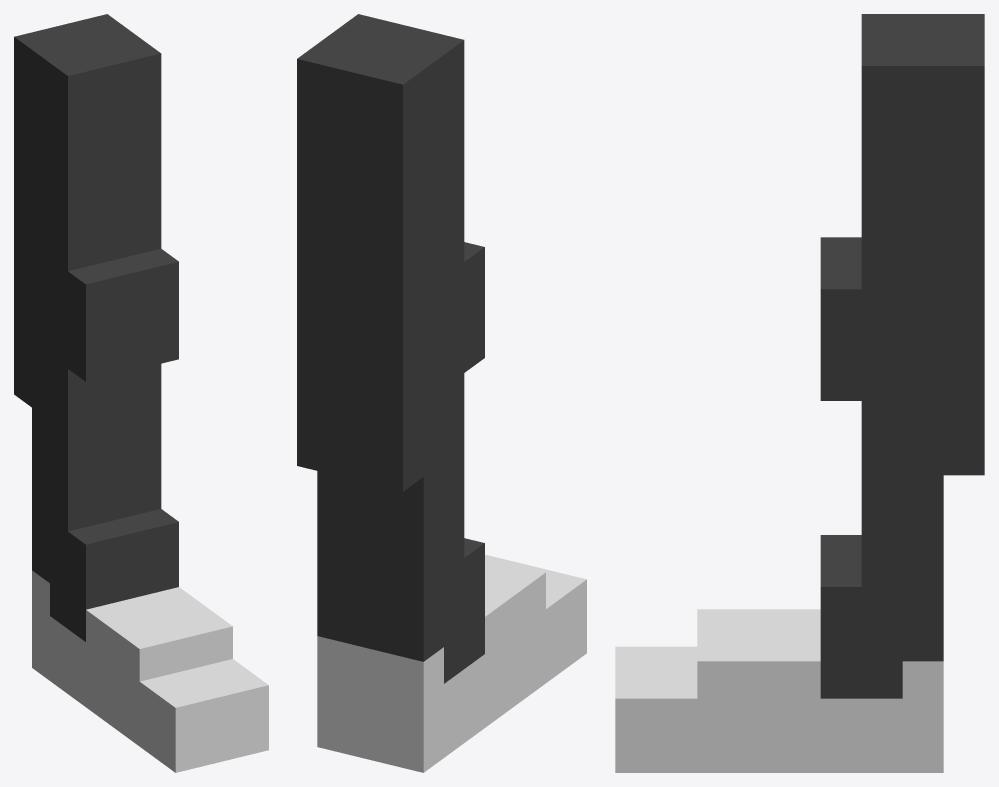
File: hero_right_leg.obj
3 renders of one model, left to right at view 1: azimuth 30°, elevation 25°; view 2: azimuth 150°, elevation 25°; view 3: azimuth 270°, elevation 25°, orthographic. The views are drawn at different scales.
Size of the model in its own units: 0.3 by 1.9 by 0.9.
Materials: 1 (1 with a texture image).
